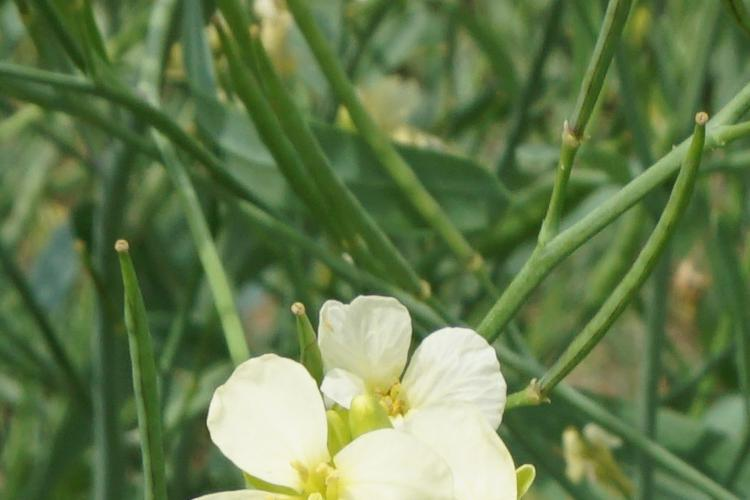bud: (348, 386, 389, 449), (311, 407, 350, 460)
pod: (530, 101, 698, 430), (102, 222, 182, 485), (288, 288, 325, 377)
white: (202, 302, 439, 494), (321, 291, 511, 414)
